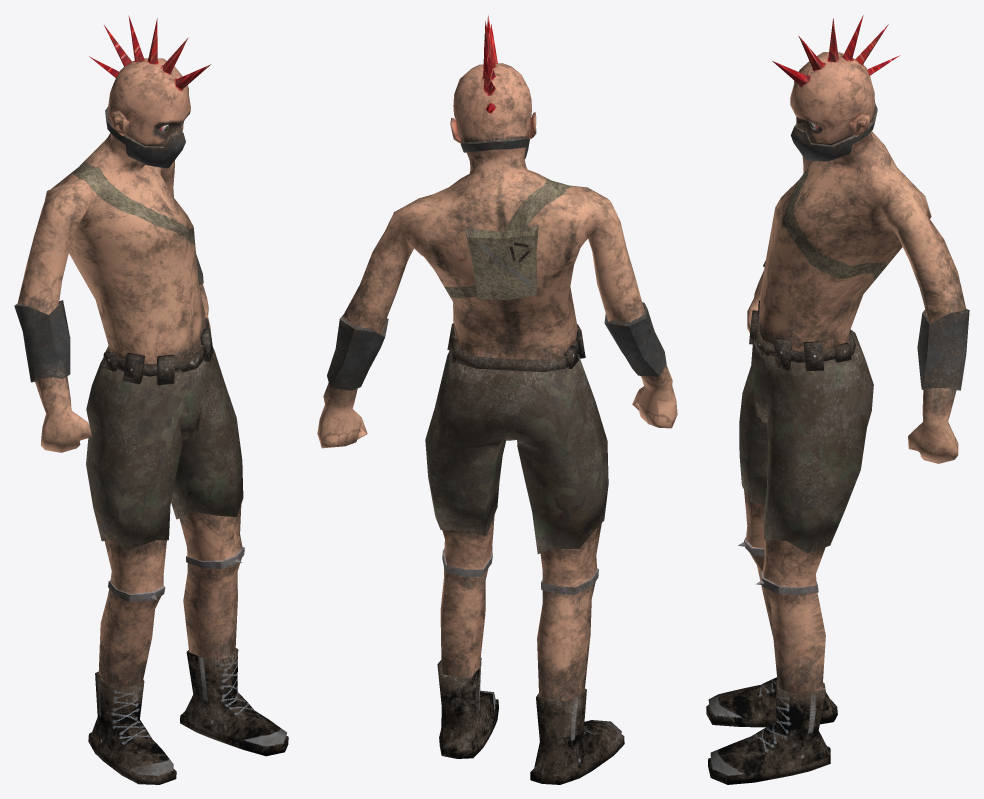
The model's file is Anim_recibirdanyo_1_npc2.0031.obj.
The picture shows the model from 3 angles, left to right: view 1: azimuth 30°, elevation 25°; view 2: azimuth 150°, elevation 25°; view 3: azimuth 270°, elevation 25°; orthographic projection. The views are drawn at different scales.
Visible parts, largest first — view 1: polySurface1; view 2: polySurface1; view 3: polySurface1.
Part boxes in pixels (x1,y1,x2,y2): polySurface1: (14,15,288,784); polySurface1: (317,14,677,784); polySurface1: (706,15,969,784).
Size of the model in its own units: 3.67 by 10 by 3.27.
